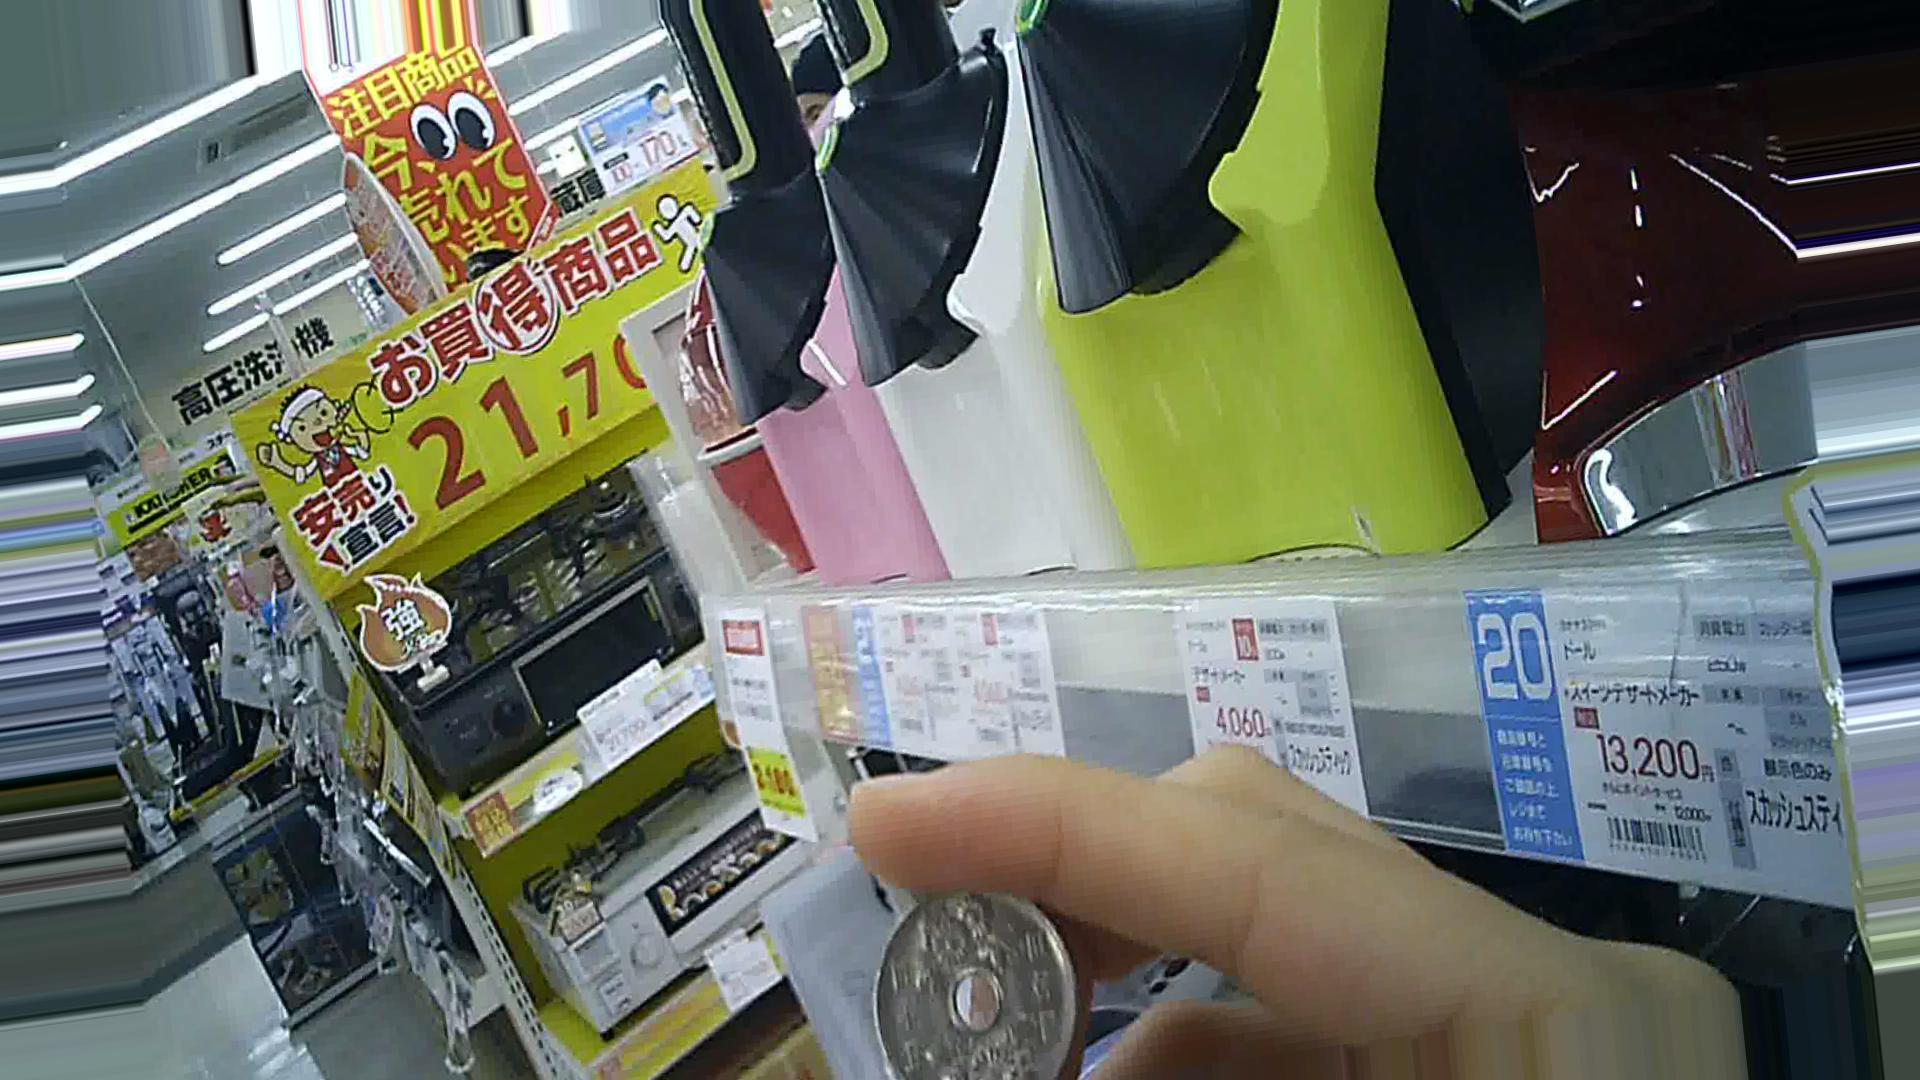50 Yen: (869, 880, 1087, 1079)
